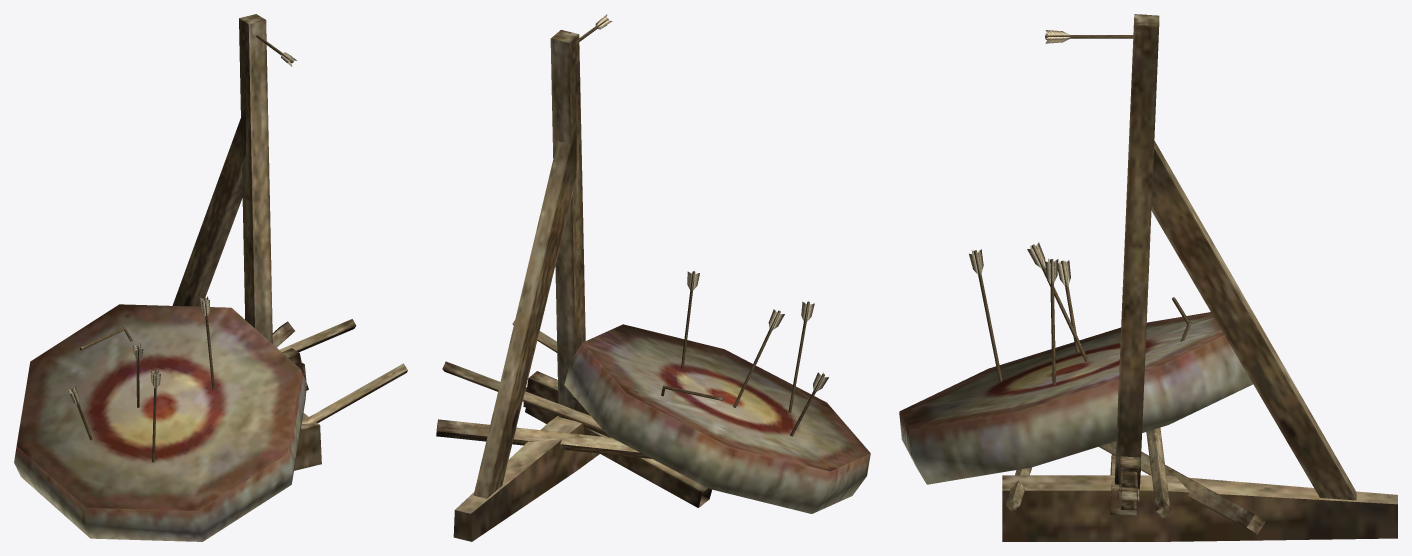
File: general_obj_target 01-02.fbx
3 renders of one model, left to right at view 1: azimuth 30°, elevation 25°; view 2: azimuth 150°, elevation 25°; view 3: azimuth 270°, elevation 25°, orthographic. The views are drawn at different scales.
Parts seen in each view (by area): view 1: Mesh01; view 2: Mesh01; view 3: Mesh01.
Part boxes in pixels (box(x1,y1,x2,y2)): Mesh01: box(14, 14, 407, 541); Mesh01: box(436, 14, 870, 541); Mesh01: box(899, 14, 1397, 541).
Size of the model in its own units: 2.49 by 2.88 by 2.41.
